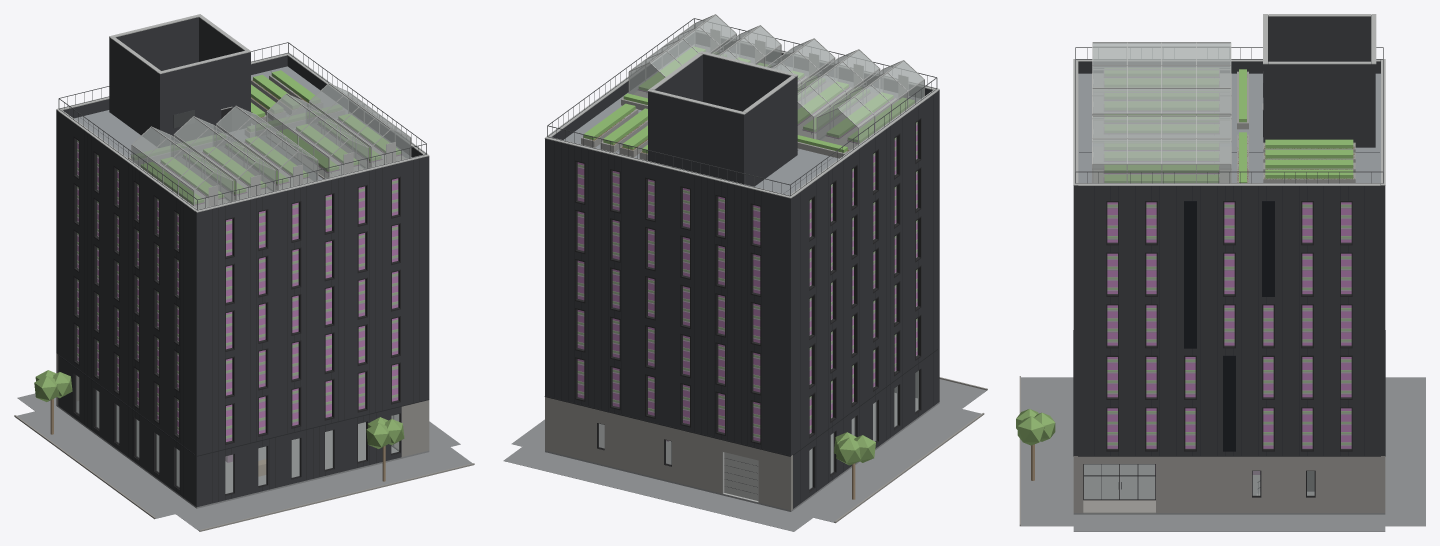
The model's file is clay-led-grow-block-clay-v006.glb.
The picture shows the model from 3 angles, left to right: view 1: azimuth 30°, elevation 25°; view 2: azimuth 150°, elevation 25°; view 3: azimuth 270°, elevation 25°; orthographic projection. The views are drawn at different scales.
Visible parts, largest first — view 1: CLAY_WALL, CLAY_GLASS, CLAY_TRIM, CLAY_FOUNDATION, CLAY_LEAF, CLAY_PALE, CLAY_JOINT, CLAY_LED, CLAY_SAND, CLAY_MEMBRANE, CLAY_STONE, CLAY_RACK (+2 smaller); view 2: CLAY_WALL, CLAY_GLASS, CLAY_TRIM, CLAY_FOUNDATION, CLAY_STONE, CLAY_PALE, CLAY_LEAF, CLAY_JOINT, CLAY_LED, CLAY_MEMBRANE, CLAY_SAND, CLAY_RACK (+2 smaller); view 3: CLAY_WALL, CLAY_GLASS, CLAY_FOUNDATION, CLAY_LEAF, CLAY_STONE, CLAY_LED, CLAY_PALE, CLAY_TRIM, CLAY_MEMBRANE, CLAY_DARKSLOT, CLAY_SAND, CLAY_JOINT (+3 smaller).
Boxes of the visible parts, left/top/right/bottom form: CLAY_WALL: left=56, top=17, right=429, bottom=506; CLAY_GLASS: left=76, top=84, right=410, bottom=493; CLAY_TRIM: left=73, top=107, right=400, bottom=495; CLAY_FOUNDATION: left=15, top=393, right=473, bottom=531; CLAY_LEAF: left=77, top=70, right=401, bottom=438; CLAY_PALE: left=56, top=14, right=429, bottom=395; CLAY_JOINT: left=58, top=117, right=429, bottom=502; CLAY_LED: left=77, top=144, right=398, bottom=441; CLAY_SAND: left=128, top=75, right=406, bottom=209; CLAY_MEMBRANE: left=74, top=66, right=411, bottom=201; CLAY_STONE: left=14, top=353, right=474, bottom=531; CLAY_RACK: left=77, top=119, right=402, bottom=462; CLAY_WALL: left=545, top=33, right=939, bottom=508; CLAY_GLASS: left=577, top=15, right=923, bottom=489; CLAY_TRIM: left=574, top=118, right=921, bottom=492; CLAY_FOUNDATION: left=503, top=379, right=986, bottom=531; CLAY_STONE: left=545, top=377, right=987, bottom=522; CLAY_PALE: left=544, top=14, right=939, bottom=502; CLAY_LEAF: left=577, top=46, right=917, bottom=437; CLAY_JOINT: left=544, top=94, right=937, bottom=502; CLAY_LED: left=577, top=125, right=917, bottom=441; CLAY_MEMBRANE: left=563, top=44, right=919, bottom=195; CLAY_SAND: left=581, top=52, right=899, bottom=160; CLAY_RACK: left=577, top=76, right=917, bottom=441; CLAY_WALL: left=1073, top=15, right=1385, bottom=491; CLAY_GLASS: left=1084, top=43, right=1351, bottom=499; CLAY_FOUNDATION: left=1020, top=377, right=1425, bottom=531; CLAY_LEAF: left=1104, top=69, right=1353, bottom=444; CLAY_STONE: left=1019, top=376, right=1385, bottom=525; CLAY_LED: left=1107, top=202, right=1351, bottom=448; CLAY_PALE: left=1073, top=14, right=1385, bottom=495; CLAY_TRIM: left=1083, top=110, right=1352, bottom=500; CLAY_MEMBRANE: left=1078, top=73, right=1380, bottom=183; CLAY_DARKSLOT: left=1184, top=201, right=1274, bottom=451; CLAY_SAND: left=1084, top=71, right=1355, bottom=513; CLAY_JOINT: left=1073, top=152, right=1385, bottom=456.
Bounding box in the file's own units: 29.7 × 32.66 × 30.26.
